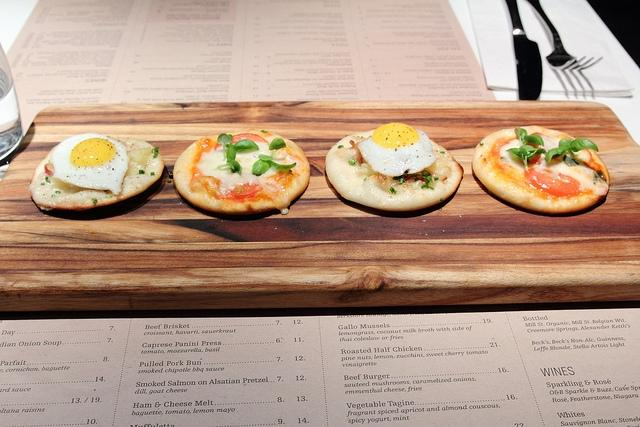tomato: (524, 168, 581, 197), (214, 133, 268, 150), (231, 184, 261, 199)
